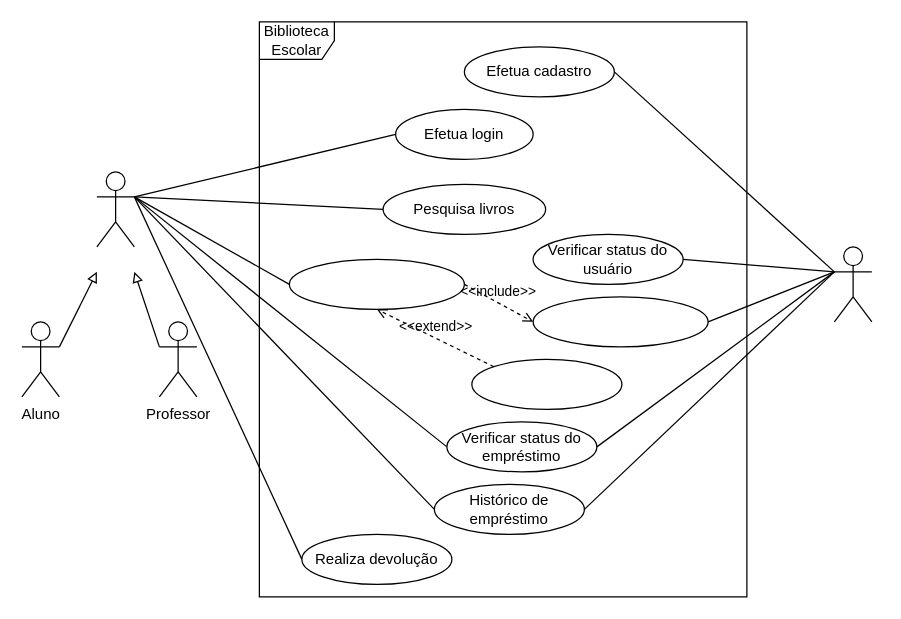
Image size: 901x619. Some labels were removed from this diagram. The shapes that lost their labels are listed below. From the top down, each one's centre as x and y in pixels, then its label:
pixel 115 209: Usuário
pixel 376 283: Realiza empréstimo
pixel 852 284: Sistema
pixel 620 321: Verificar disponibilidade
pixel 546 383: Realiza reserva
